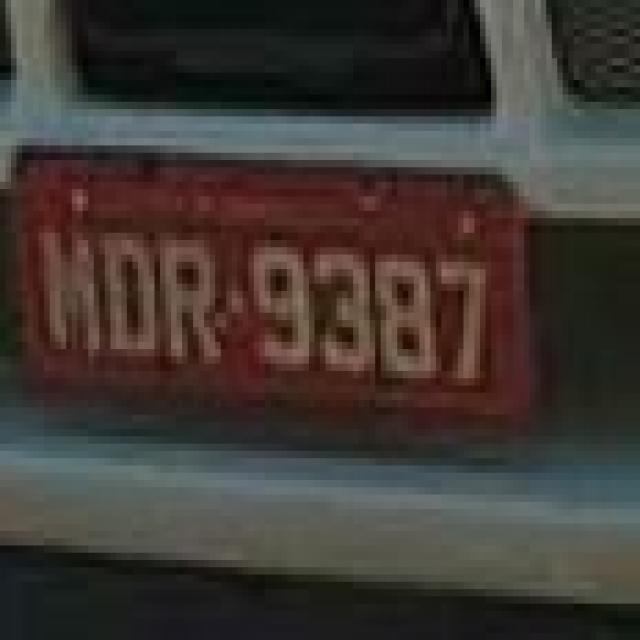3: (314, 232, 378, 394)
7: (439, 245, 495, 389)
8: (375, 238, 439, 387)
9: (248, 230, 318, 384)
D: (100, 225, 162, 358)
M: (35, 207, 108, 365)
R: (158, 229, 222, 372)
